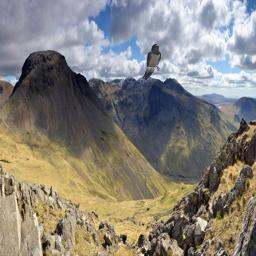Swallow: (142, 44, 161, 80)
